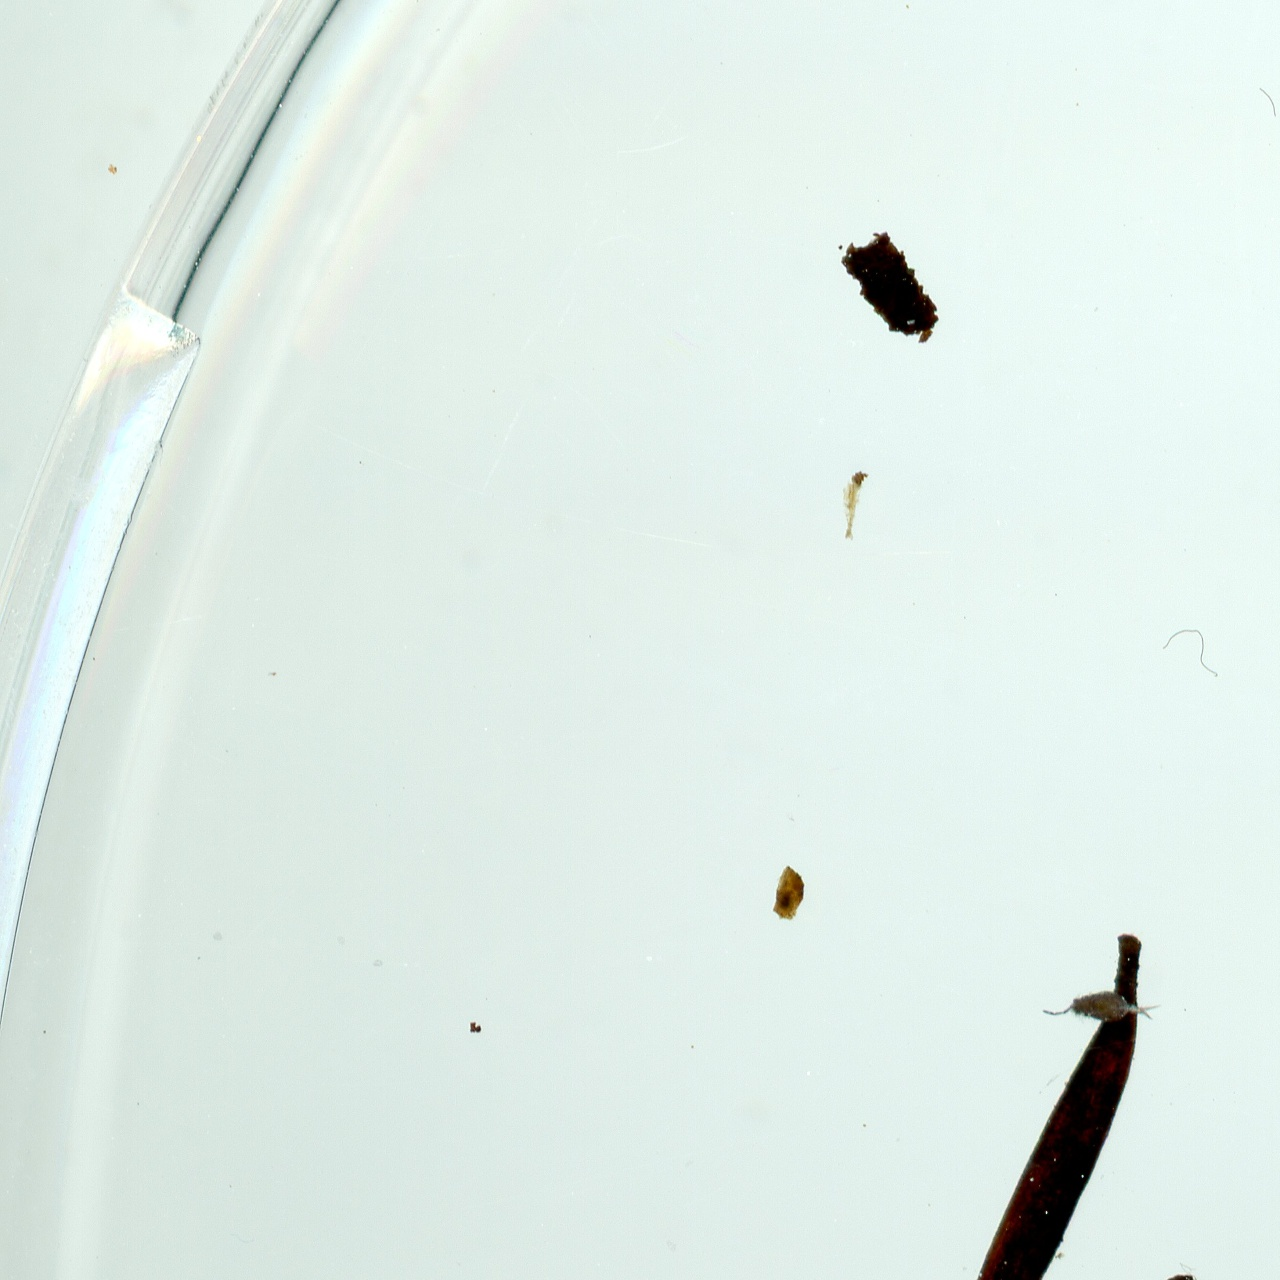arthropod: (1041, 988, 1166, 1027)
